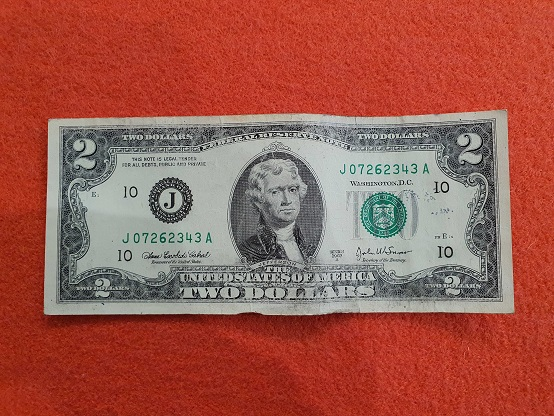2dollar: (42, 112, 516, 316)
